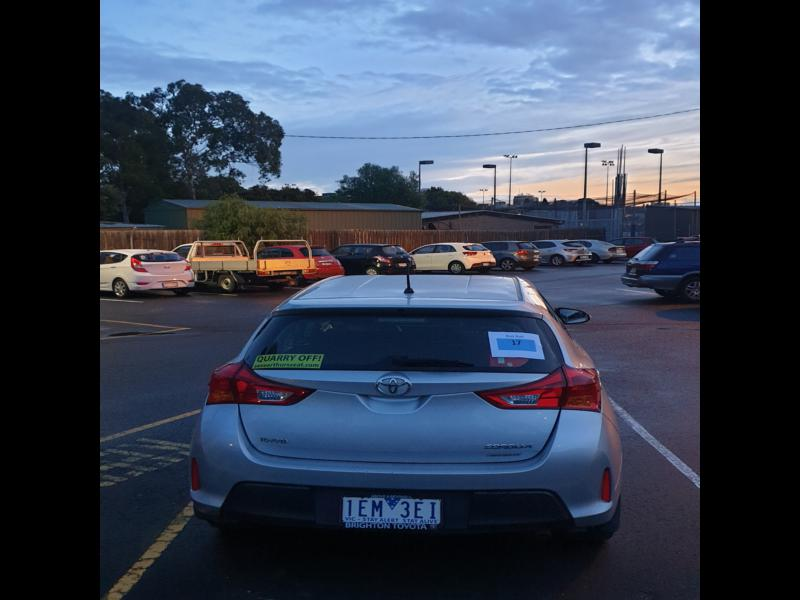BusRun: (496, 338, 539, 352)
PlateNo: (341, 498, 442, 526)
